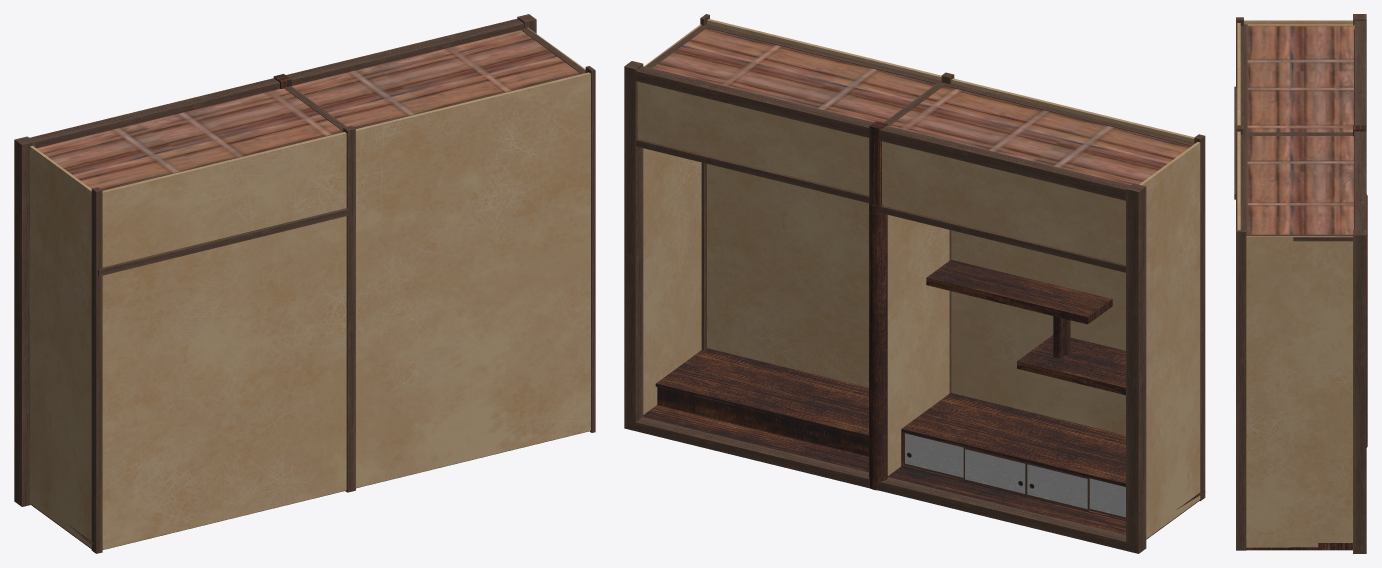
The model's file is inwall_toko_2t_b.fbx.
3 views of the same model, side by side, from view 1: azimuth 30°, elevation 25°; view 2: azimuth 150°, elevation 25°; view 3: azimuth 270°, elevation 25° (orthographic). The views are drawn at different scales.
Parts seen in each view (by area): view 1: inwall_toko_2t_b; view 2: inwall_toko_2t_b; view 3: inwall_toko_2t_b.
Part boxes in pixels (left/top/right/bottom): inwall_toko_2t_b: left=14, top=14, right=595, bottom=553; inwall_toko_2t_b: left=624, top=14, right=1205, bottom=553; inwall_toko_2t_b: left=1234, top=14, right=1367, bottom=553.
Bounding box in the file's own units: 440 × 296 × 112.
